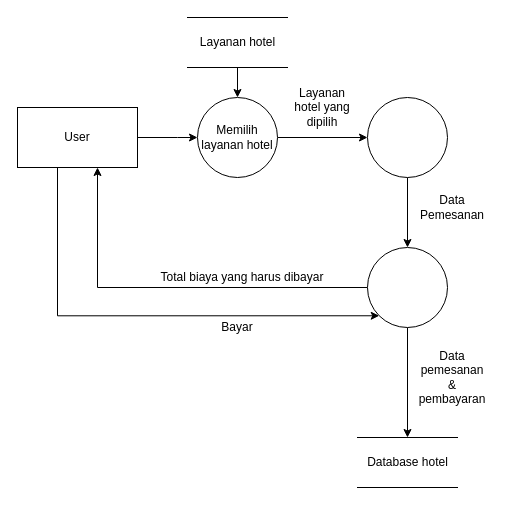
Image size: 505x505. Some labels were removed from this diagram. Here are the shapes that lost their labels. From the top down, the box of each, then its label:
(366, 96, 448, 178): Mengisi Data Pemesanan
(366, 246, 448, 328): Melakukan Pembayaran
